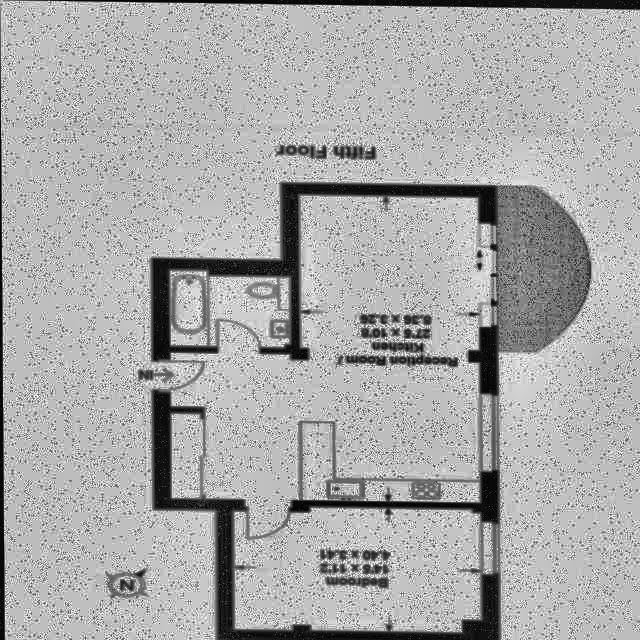room: (148, 191, 494, 509), (231, 505, 493, 632), (168, 270, 290, 353)
